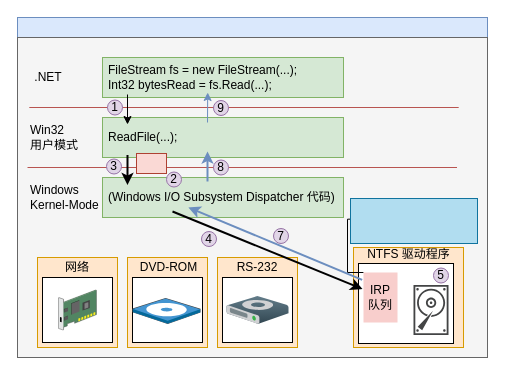
This 505x375 diagram has some shape labels left out. Here are the shapes that lost their labels. From the top down, the centre of each, then its label:
At [252,27]: "Windows 如何执行同步 I/O".
At [151,163]: "IRP".
At [414,221]: "你的线程在这里阻塞！ 硬件执行 I/O; 不涉及到任何线程！".
